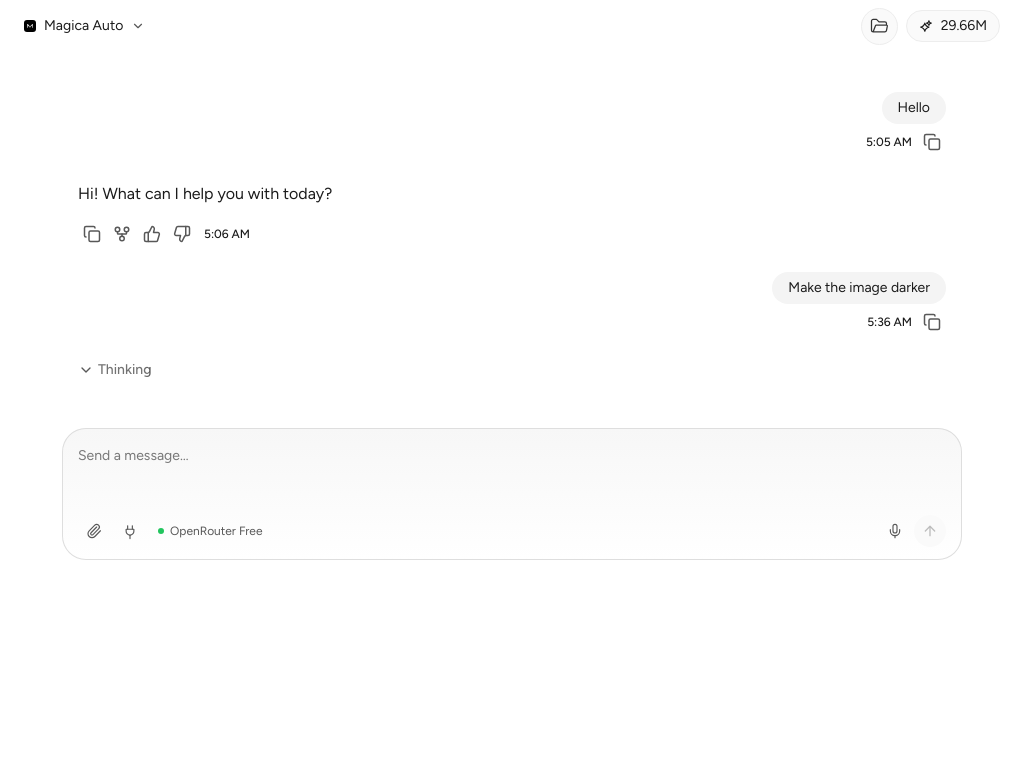
Test: before the server has said whether a run is going (just after a reload) › can't send, and shows the reply's Thinking row; then the run turns up with Stop
Check: the text "Make the image darker" is shown, box [772, 272, 946, 304]
Check: the message named "The assistant is thinking" is shown, box [78, 360, 151, 380]
Type "another one" into the text box with placeholder "Send a message…". click: (512, 456)
box: [78, 444, 946, 468]
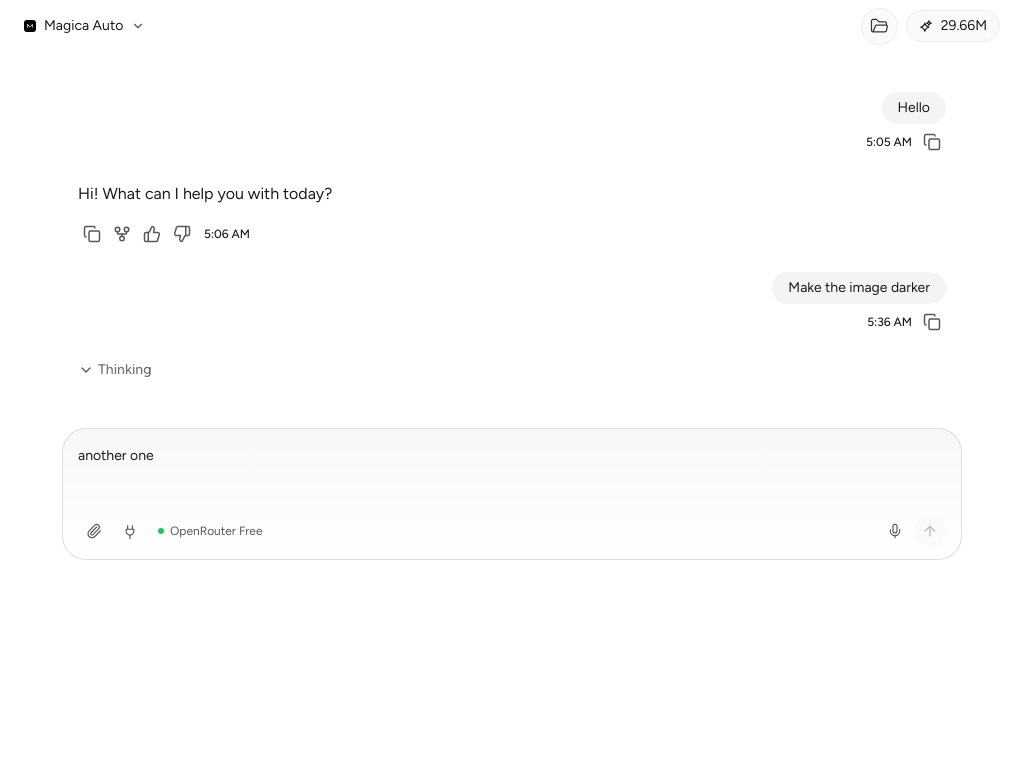
Check: the button named "Send message" is disabled, box [914, 515, 946, 547]
Press Enter
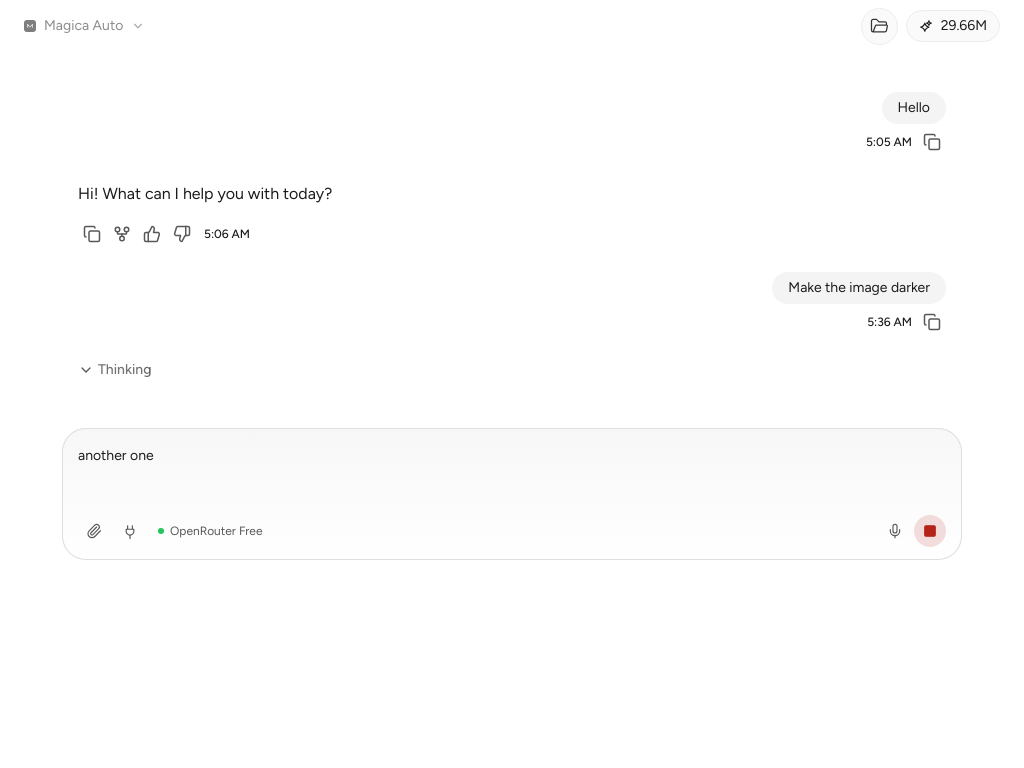
Check: the message named "The assistant is thinking" is shown, box [78, 360, 151, 380]
Check: the button named "Stop response" is shown, box [914, 515, 946, 547]
